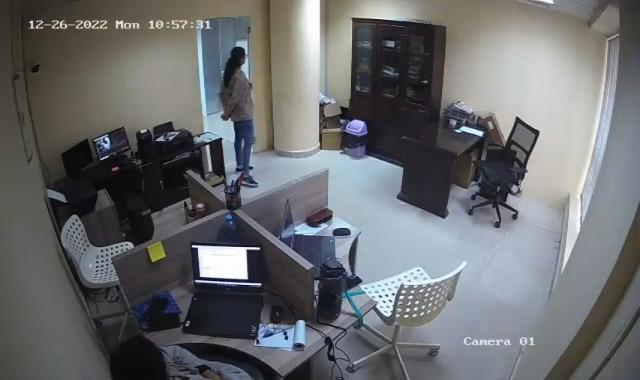no_hairnet: (108, 335, 166, 380), (229, 42, 248, 68)
